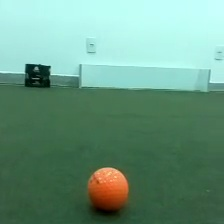ball: (83, 163, 132, 215)
goal: (76, 61, 212, 94)
robot: (22, 61, 52, 89)
